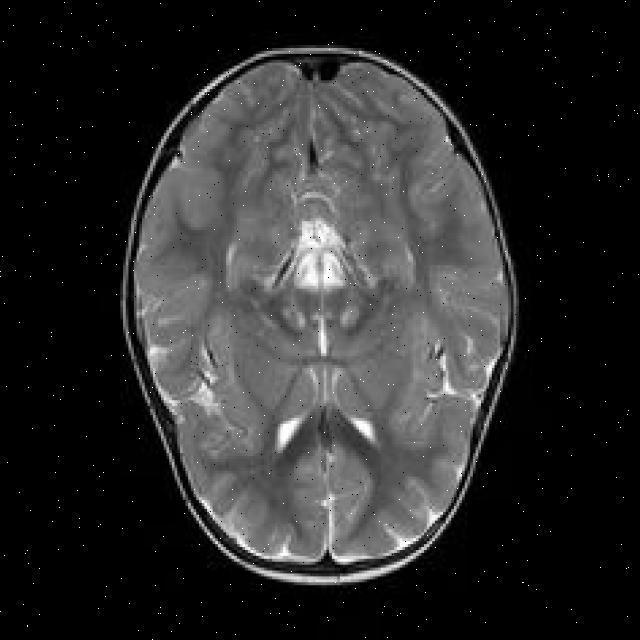No_Tumor: (123, 47, 518, 584)
